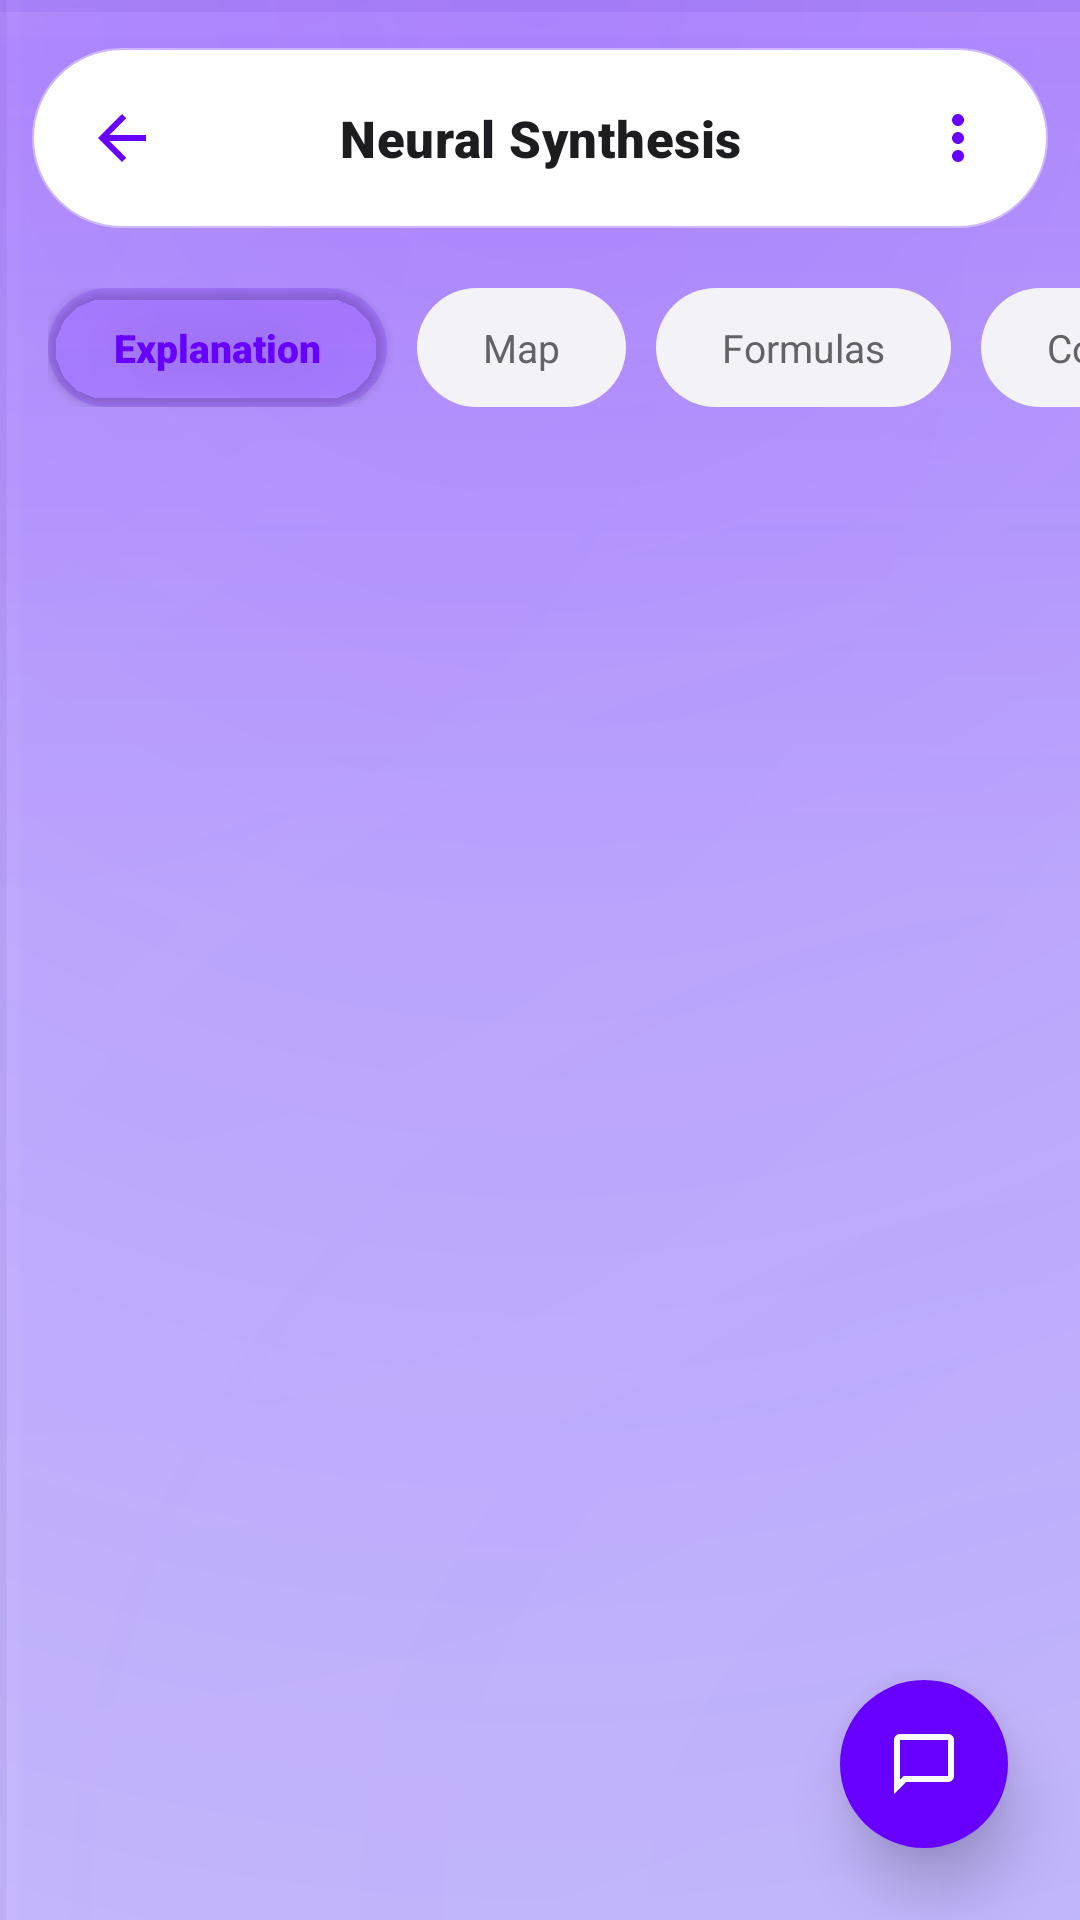

Icon bounding boxes for this 1080 x 1920 phone screenshot, format {"left": x1, "top": y1, "right": x2, "bottom": y2}:
Back: {"left": 98, "top": 114, "right": 146, "bottom": 162}
Chat: {"left": 840, "top": 1680, "right": 1008, "bottom": 1848}
More options: {"left": 952, "top": 114, "right": 964, "bottom": 162}
